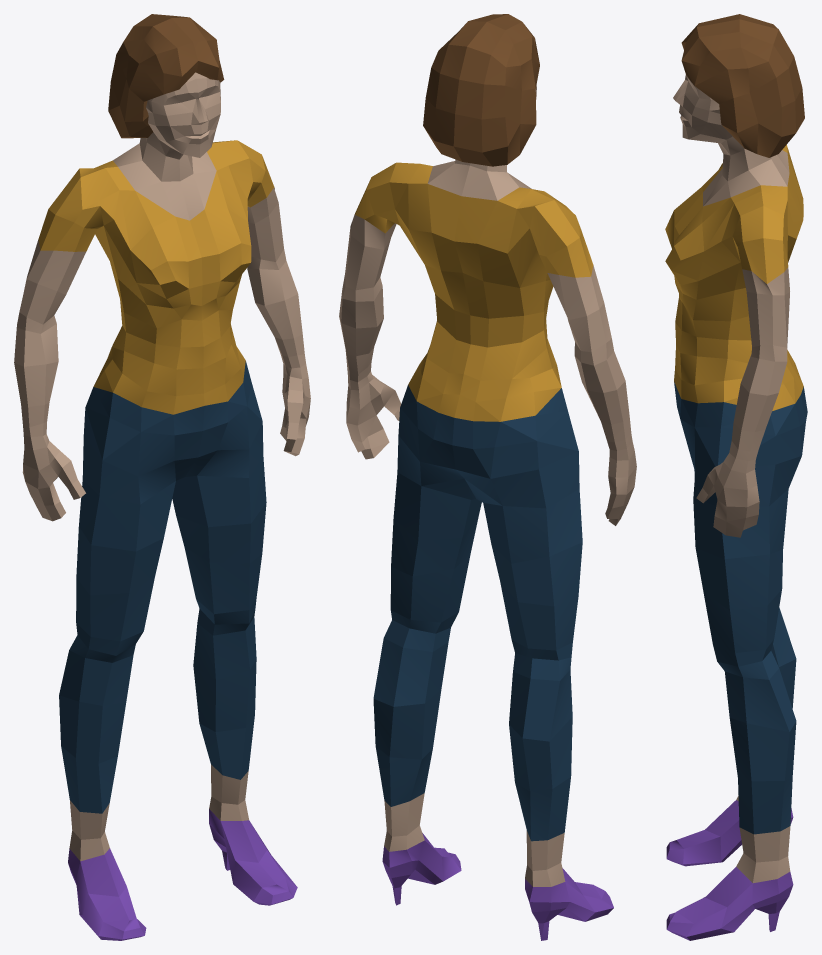
File: chara still 4.fbx
The picture shows the model from 3 angles, left to right: view 1: azimuth 30°, elevation 25°; view 2: azimuth 150°, elevation 25°; view 3: azimuth 270°, elevation 25°; orthographic projection.
Visible parts, largest first — view 1: Object_7.001; view 2: Object_7.001; view 3: Object_7.001.
Part boxes in pixels (x1,y1,x2,y2): Object_7.001: (14,14,310,940); Object_7.001: (339,14,636,940); Object_7.001: (665,14,807,940).
Size of the model in its own units: 107 by 321 by 47.3.
